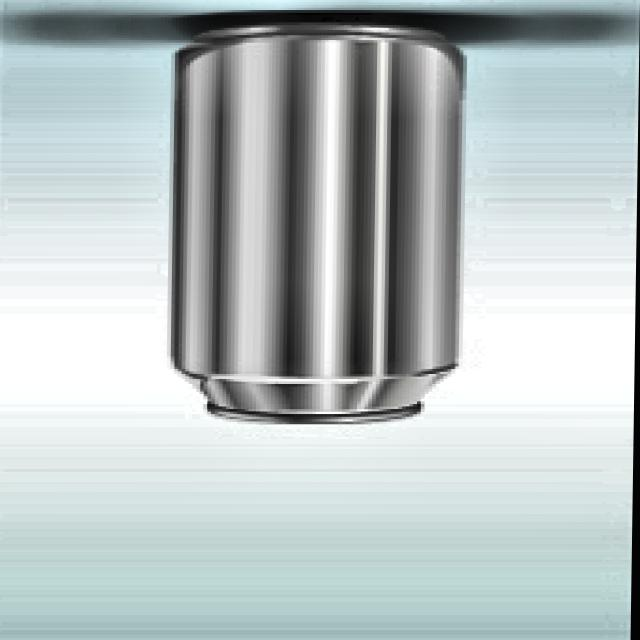can: (154, 21, 477, 431)
